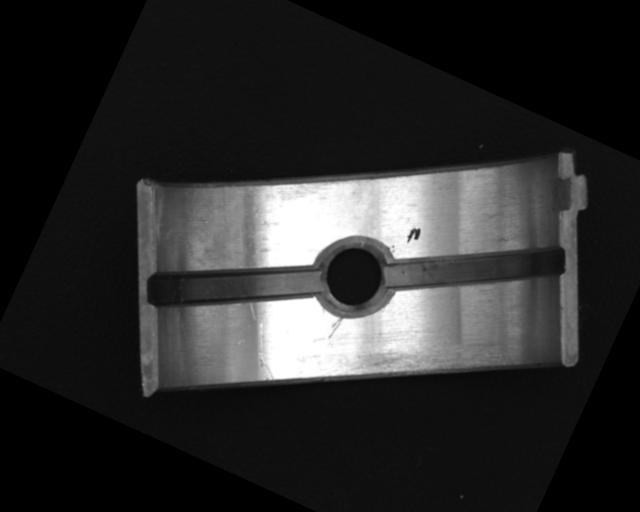blot: (404, 223, 423, 246)
gap: (382, 186, 572, 348), (141, 208, 324, 362)
hole: (300, 223, 408, 330)
nick: (238, 319, 294, 382), (326, 315, 343, 340)
scratch: (347, 297, 518, 435)
